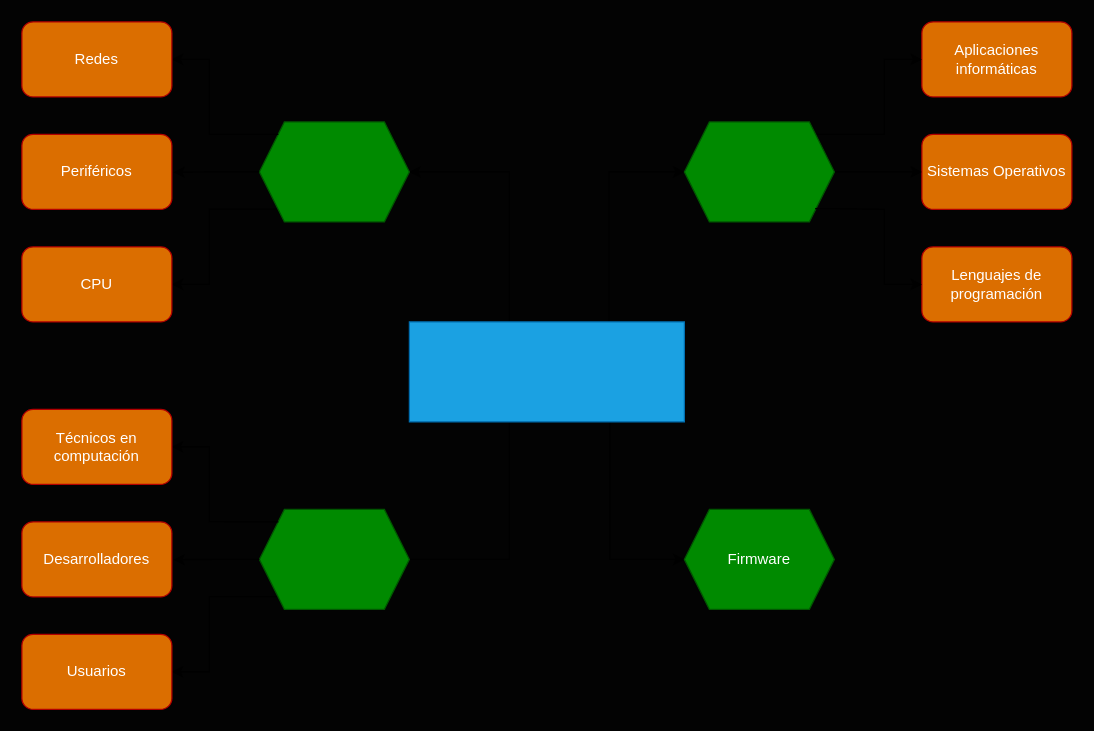
Some shapes in this 1094 by 731 pixel diagram are drawn without their labels. Each missing label, with the centre of its shape:
Hardware: point (333, 171)
Personal informático: point (333, 558)
SISTEMA INFORMÁTICO: point (546, 371)
Software: point (758, 171)
